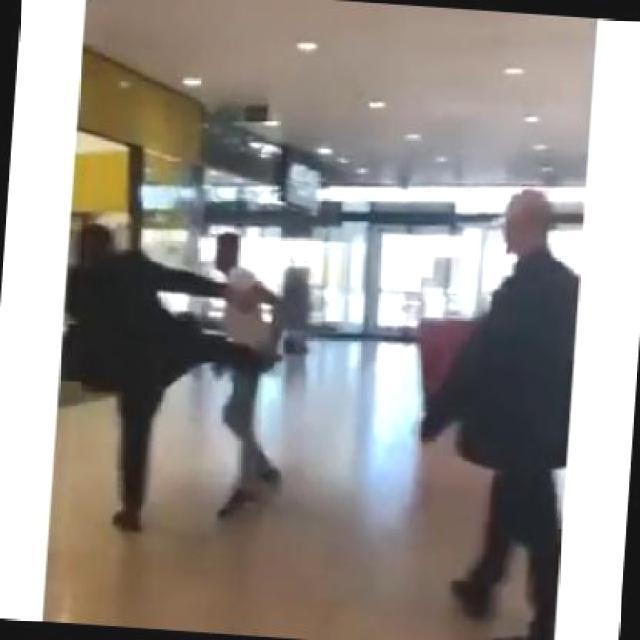fight: (53, 222, 299, 548)
